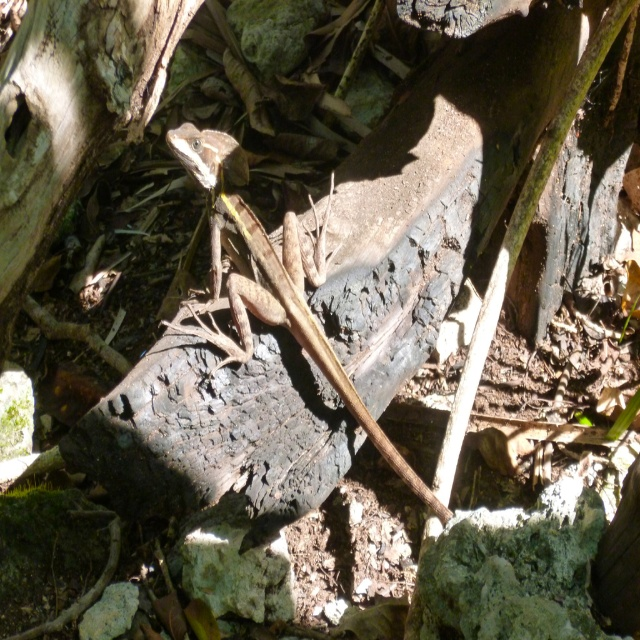Lizard: (154, 188, 438, 517)
